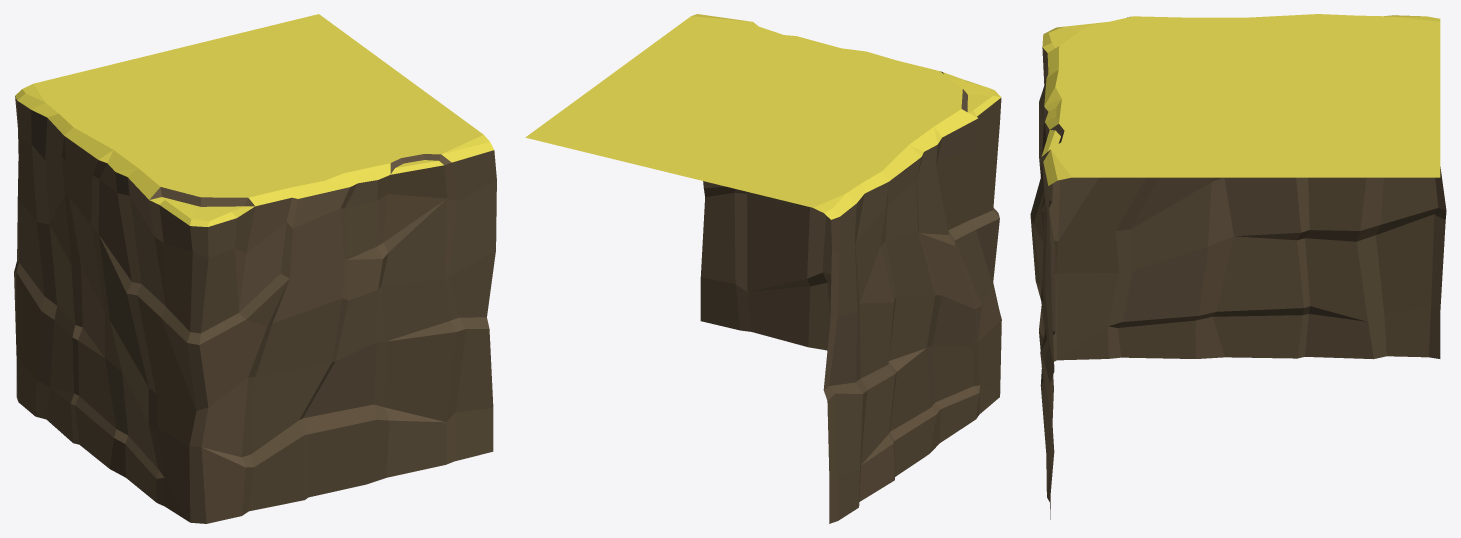
File: tile_Grassland_Corner.fbx
3 views of the same model, side by side, from view 1: azimuth 30°, elevation 25°; view 2: azimuth 150°, elevation 25°; view 3: azimuth 270°, elevation 25° (orthographic). The views are drawn at different scales.
Visible parts, largest first — view 1: tileMesh.001; view 2: tileMesh.001; view 3: tileMesh.001.
Part boxes in pixels (box(x1,y1,x2,y2)): tileMesh.001: box(14, 14, 496, 523); tileMesh.001: box(525, 14, 1001, 523); tileMesh.001: box(1030, 14, 1446, 519).
Bounding box in the file's own units: 265 × 250 × 272.
